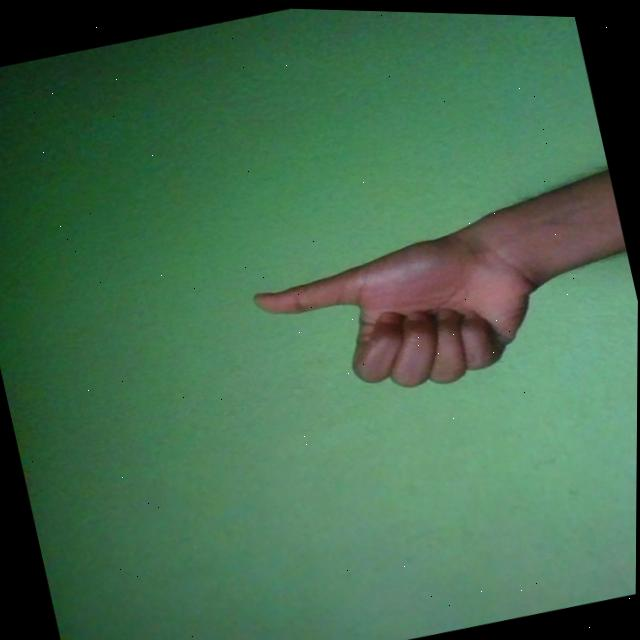Good Job: (246, 209, 558, 422)
